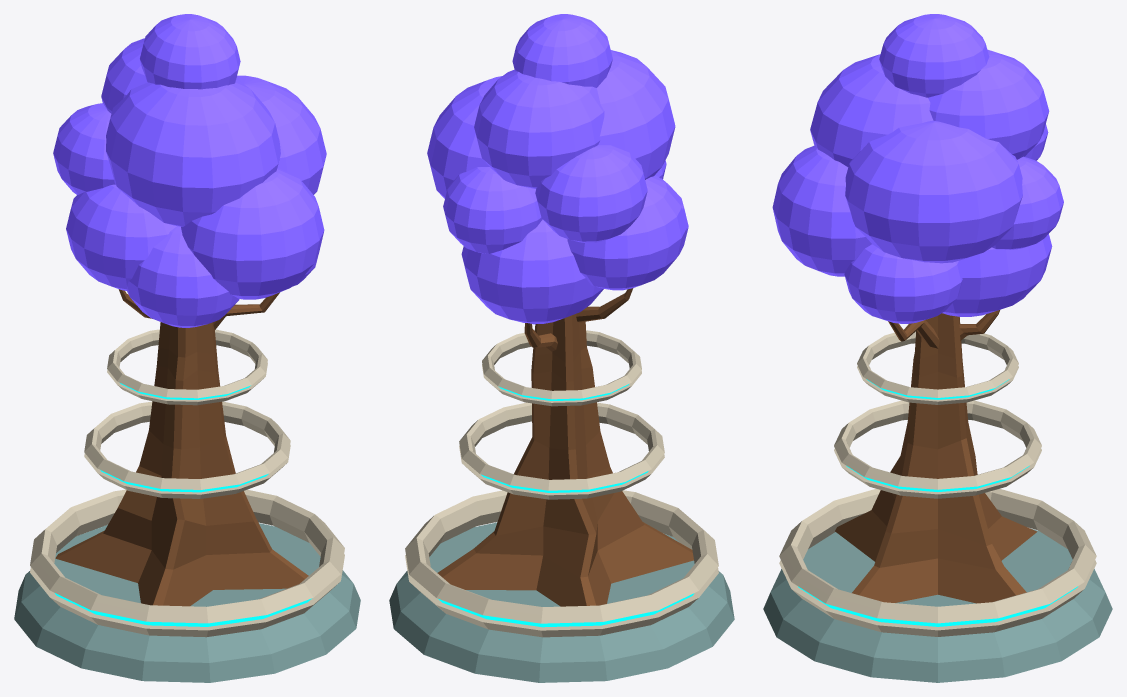
The model's file is Tree.fbx.
3 views of the same model, side by side, from view 1: azimuth 30°, elevation 25°; view 2: azimuth 150°, elevation 25°; view 3: azimuth 270°, elevation 25° (orthographic).
Parts seen in each view (by area): view 1: Cube; view 2: Cube; view 3: Cube.
Part boxes in pixels (x1,y1,x2,y2): Cube: [14, 14, 360, 682]; Cube: [389, 14, 734, 682]; Cube: [763, 14, 1112, 682].
Bounding box in the file's own units: 485 × 905 × 485.
